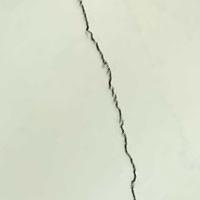crack: (62, 0, 145, 199)
